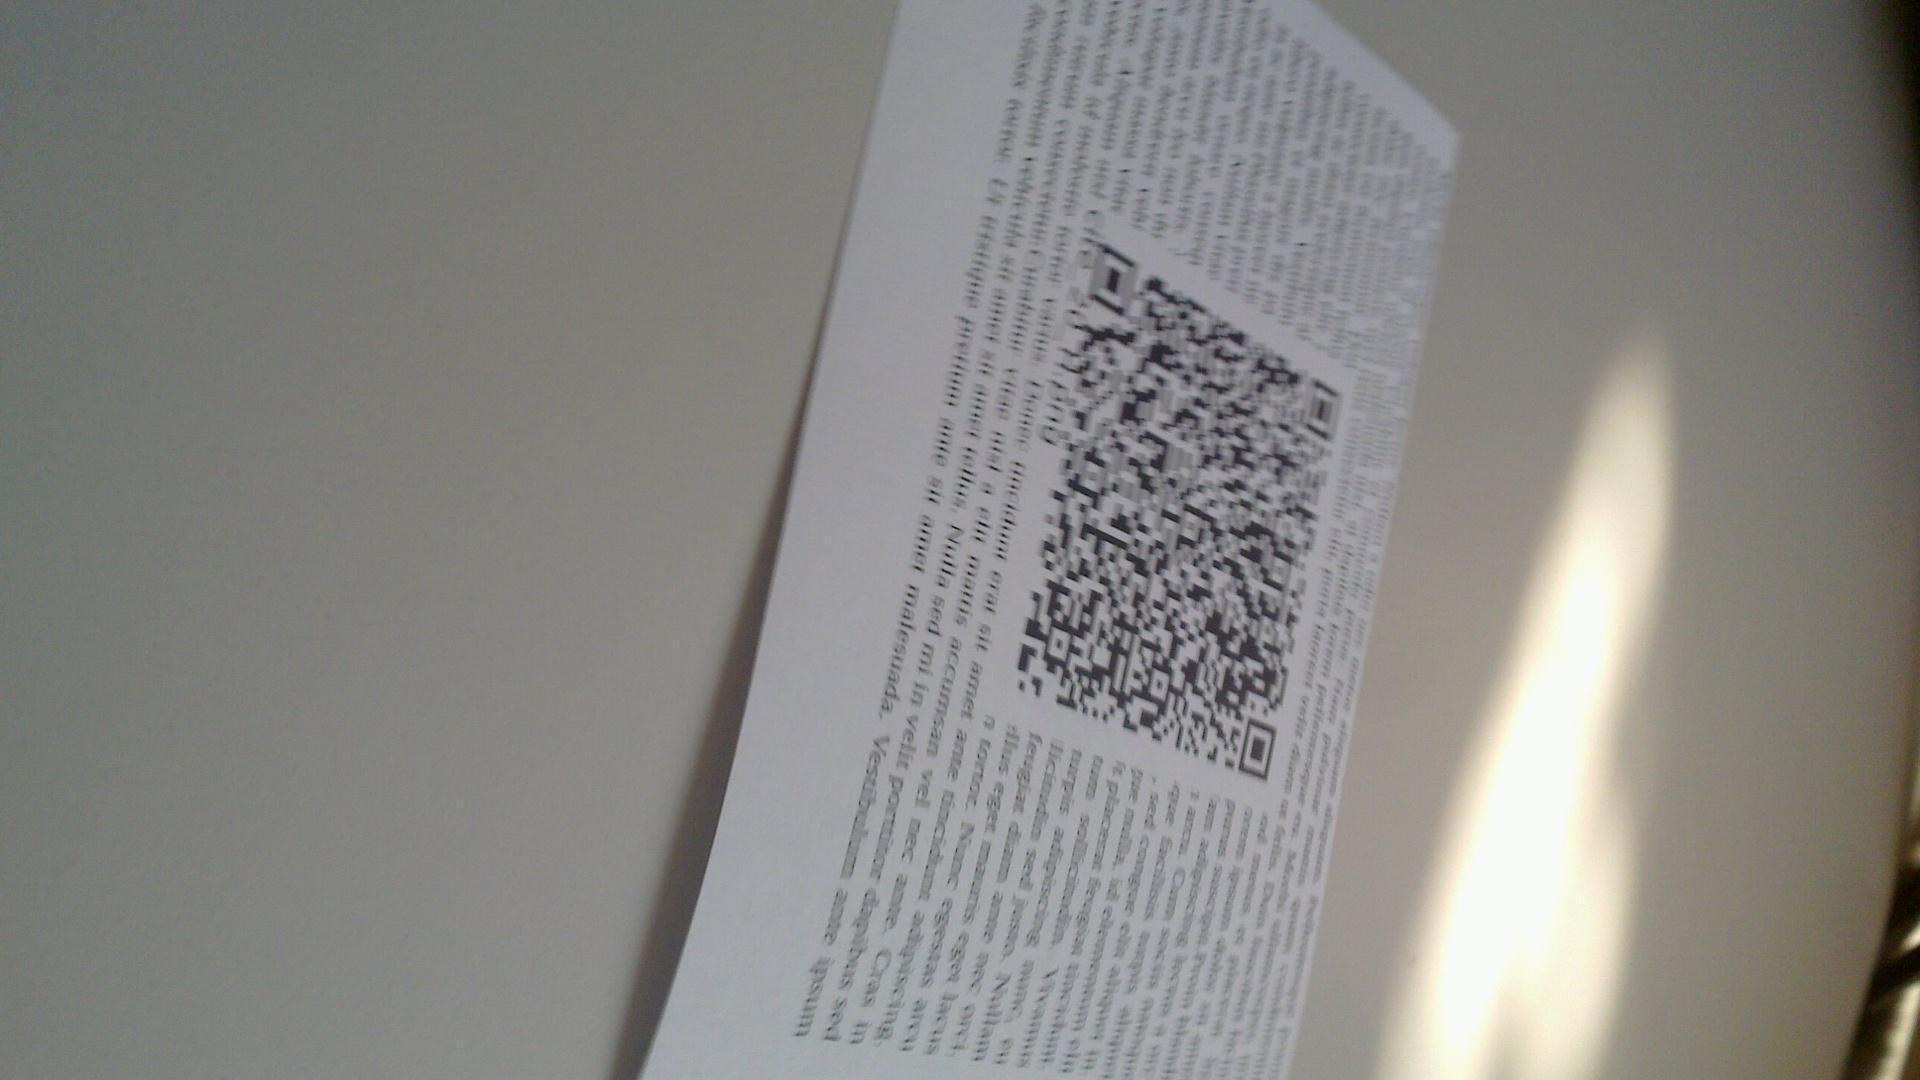qr_code: (1017, 241, 1342, 782)
